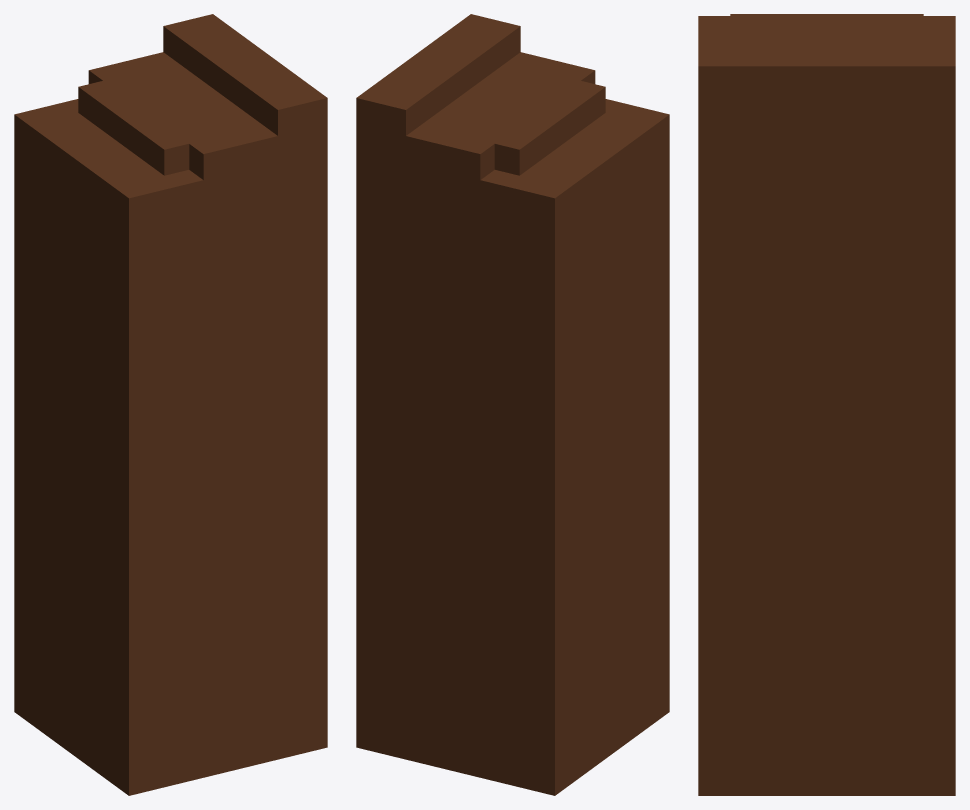
Rendered from grip_ak.glb.
3 renders of one model, left to right at view 1: azimuth 30°, elevation 25°; view 2: azimuth 150°, elevation 25°; view 3: azimuth 270°, elevation 25°, orthographic. The views are drawn at different scales.
Parts seen in each view (by area): view 1: grip_ak:grip; view 2: grip_ak:grip; view 3: grip_ak:grip.
Part boxes in pixels (left/top/right/bottom): grip_ak:grip: left=14, top=14, right=327, bottom=795; grip_ak:grip: left=356, top=14, right=669, bottom=795; grip_ak:grip: left=698, top=14, right=955, bottom=795.
Bounding box in the file's own units: 0.032 × 0.1 × 0.032.
